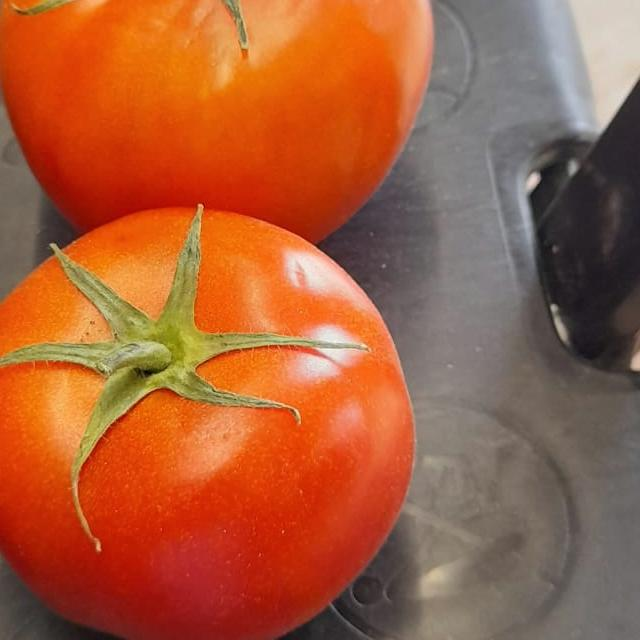tomato: (0, 183, 489, 640), (0, 0, 470, 243)
